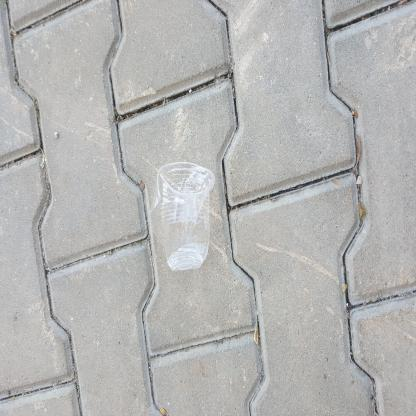trash: (76, 256, 154, 395)
